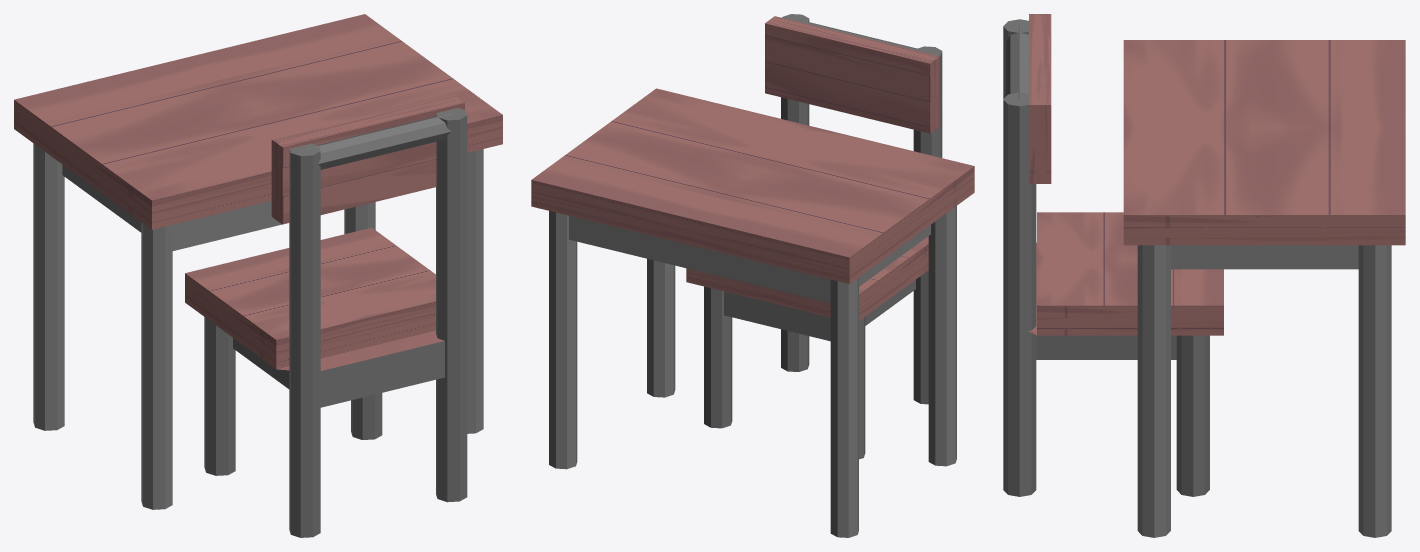
The model's file is isu_tukue_1.fbx.
The picture shows the model from 3 angles, left to right: view 1: azimuth 30°, elevation 25°; view 2: azimuth 150°, elevation 25°; view 3: azimuth 270°, elevation 25°; orthographic projection. The views are drawn at different scales.
Visible parts, largest first — view 1: tukue, isu; view 2: tukue, isu; view 3: tukue, isu.
Boxes of the visible parts, box(x1,y1,x2,y2) form: tukue: box(14, 14, 502, 509); isu: box(185, 95, 467, 537); tukue: box(531, 88, 974, 537); isu: box(686, 14, 942, 459); tukue: box(1123, 40, 1405, 537); isu: box(1003, 14, 1223, 496).
Size of the model in its own units: 2.5 by 2.62 by 2.43.
